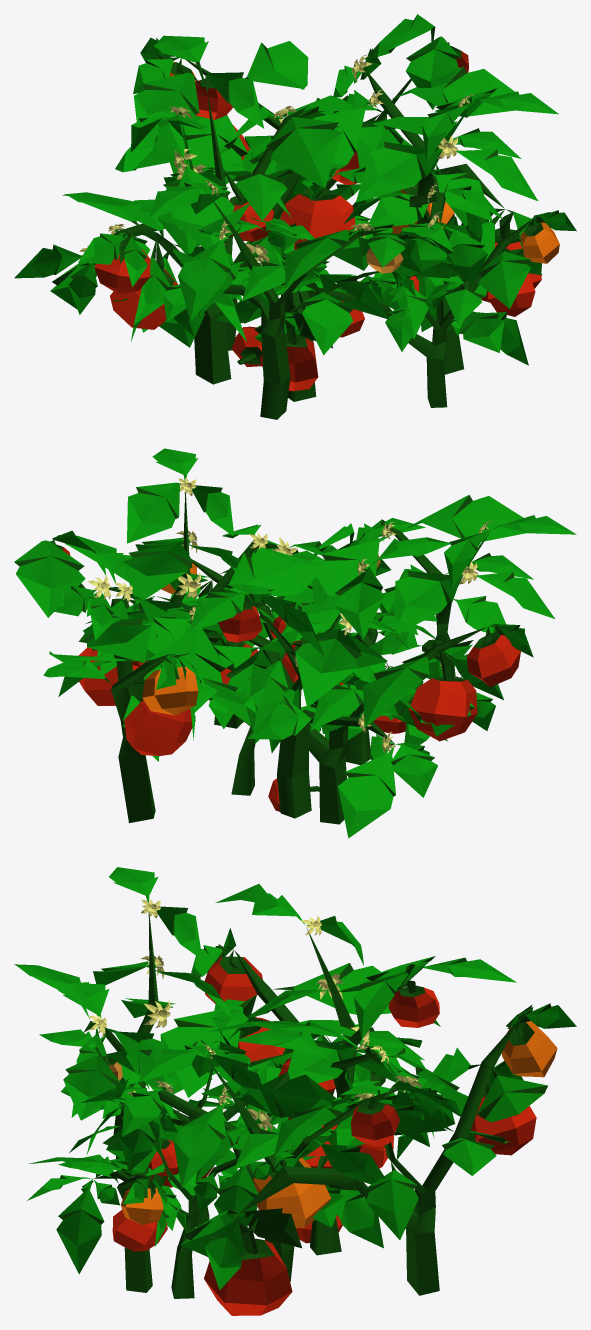
The model's file is tomato.glb.
3 views of the same model, one above another, from view 1: azimuth 30°, elevation 25°; view 2: azimuth 150°, elevation 25°; view 3: azimuth 270°, elevation 25° (orthographic). The views are drawn at different scales.
Visible parts, largest first — view 1: tomato_3, tomato_2, tomato_1; view 2: tomato_2, tomato_3, tomato_1; view 3: tomato_3, tomato_2, tomato_1.
Boxes of the visible parts, x1,y1,x2,y2 form: tomato_3: (62,14,576,407); tomato_2: (14,48,558,419); tomato_1: (195,164,528,401); tomato_2: (54,448,576,838); tomato_3: (14,518,533,824); tomato_1: (116,549,437,795); tomato_3: (29,928,576,1315); tomato_2: (14,867,468,1281); tomato_1: (27,1009,396,1298).
Bounding box in the file's own units: 4.2 × 2.47 × 4.19.
